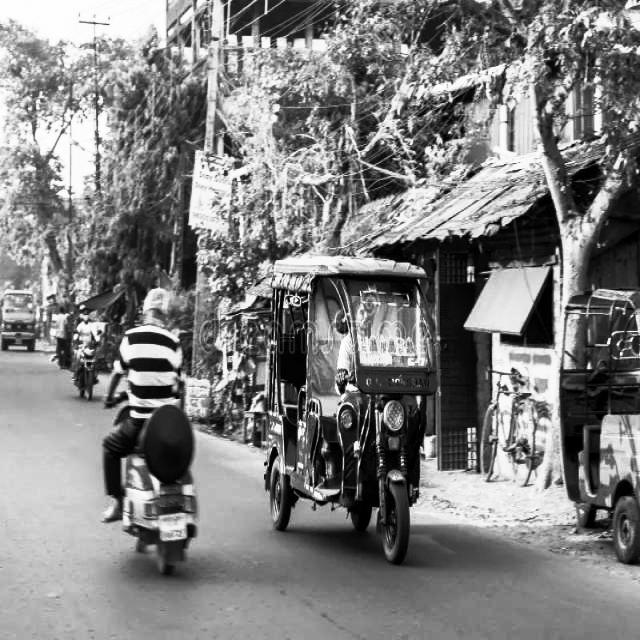Toto: (262, 252, 432, 566)
